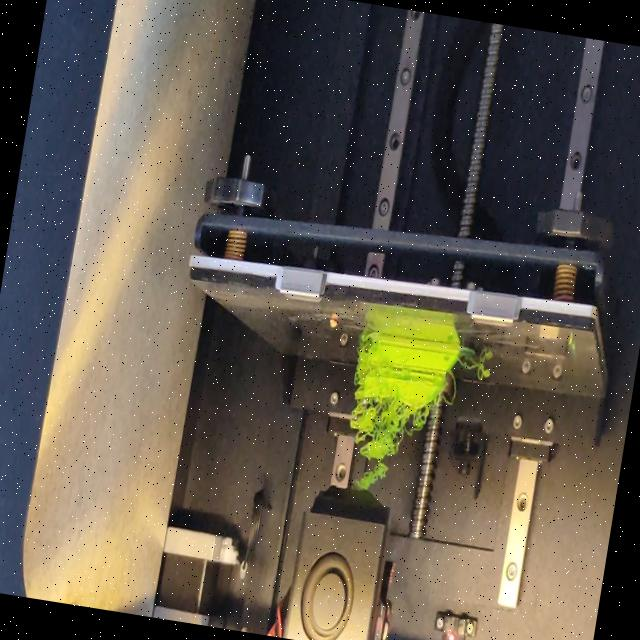spaghetti: (340, 396, 432, 499), (454, 351, 496, 382), (444, 371, 462, 406), (363, 335, 371, 348)
